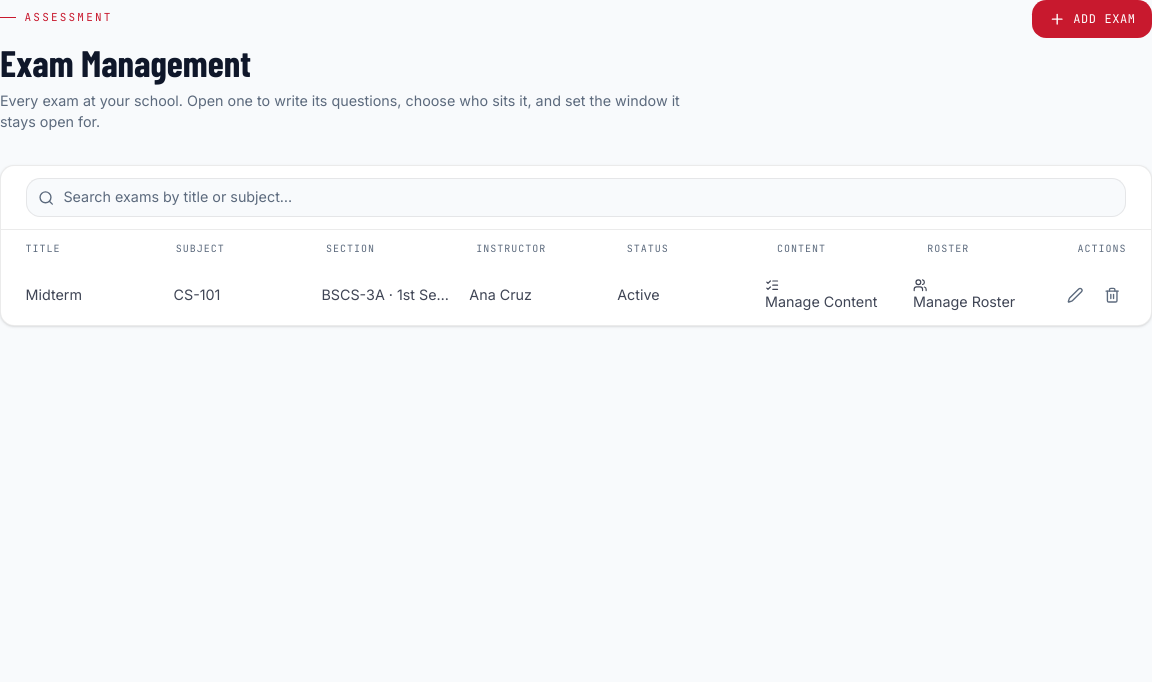
Exams — a row answers what it is › offers the edit from inside the details
Click the text "Midterm".
click(54, 295)  # box [26,286,82,303]
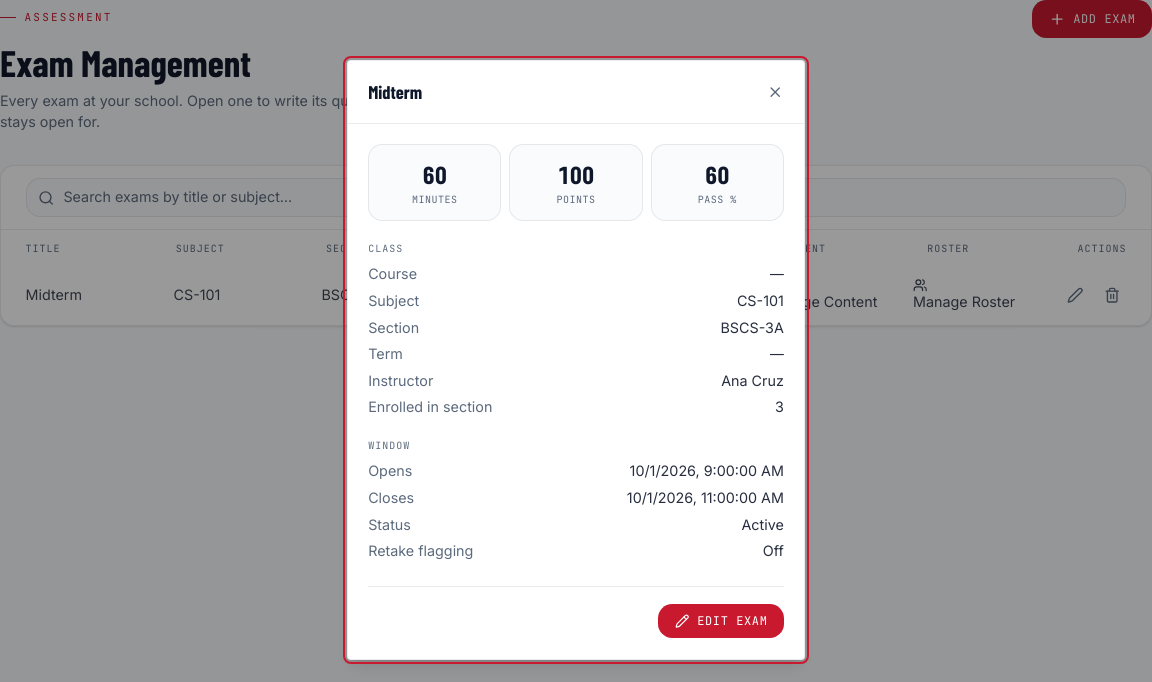
Click the button "Edit exam".
click(721, 621)  # box [658,604,784,638]
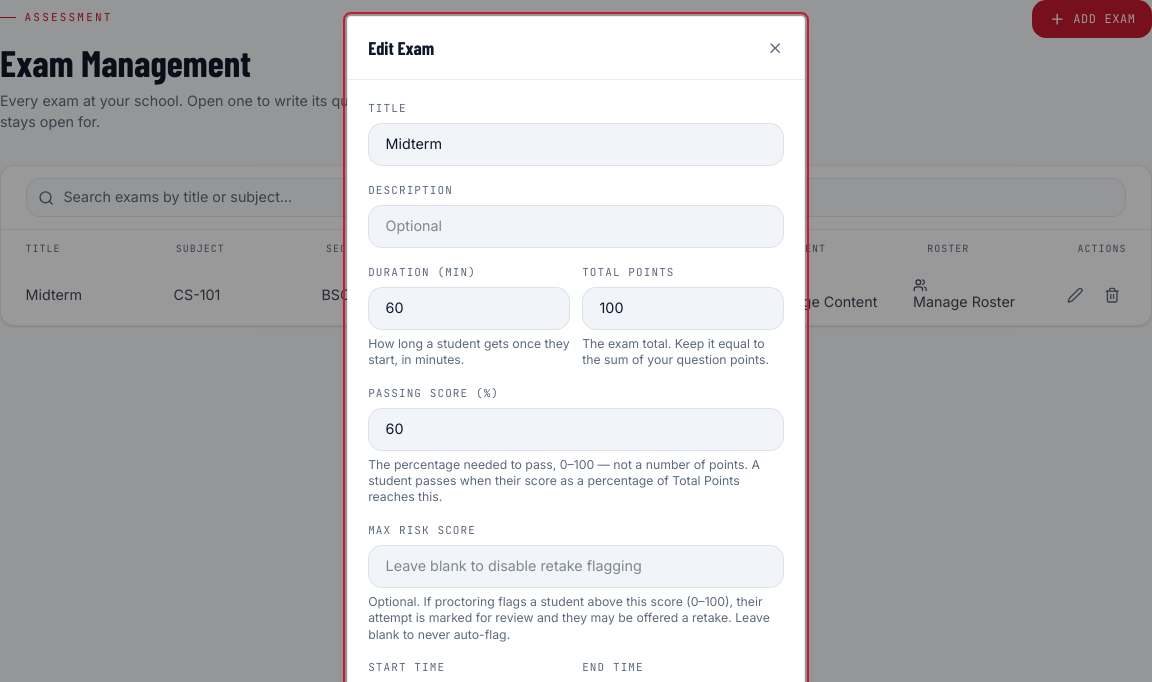
Check: the field labelled "Title" holds "Midterm", box [368,123,784,166]
